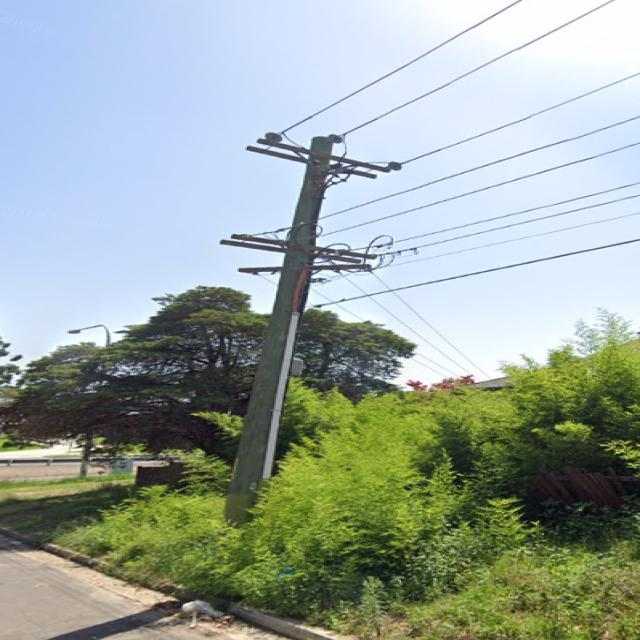HV-transmission: (245, 130, 403, 179)
crossarm: (256, 138, 391, 174), (246, 146, 377, 179), (230, 234, 376, 259), (219, 239, 363, 263), (238, 264, 370, 277)
steel-pole: (77, 330, 111, 480)
streetlight: (66, 322, 112, 337)
timber-pole: (220, 136, 337, 522)
